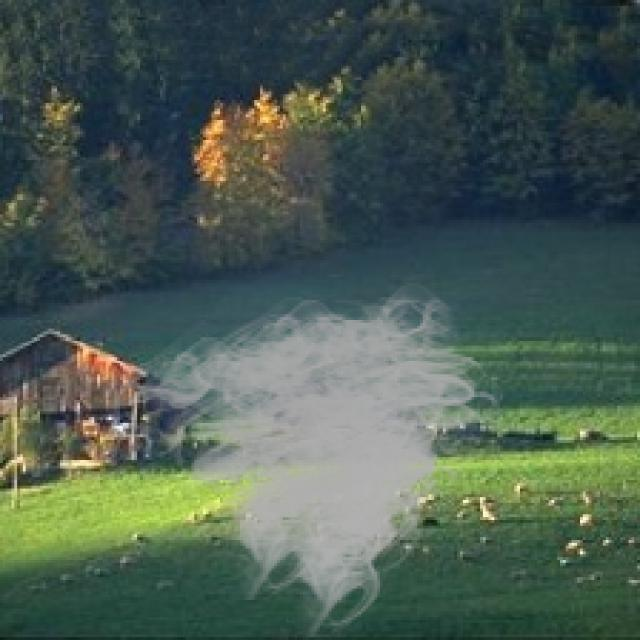Smoke: (97, 274, 514, 637)
